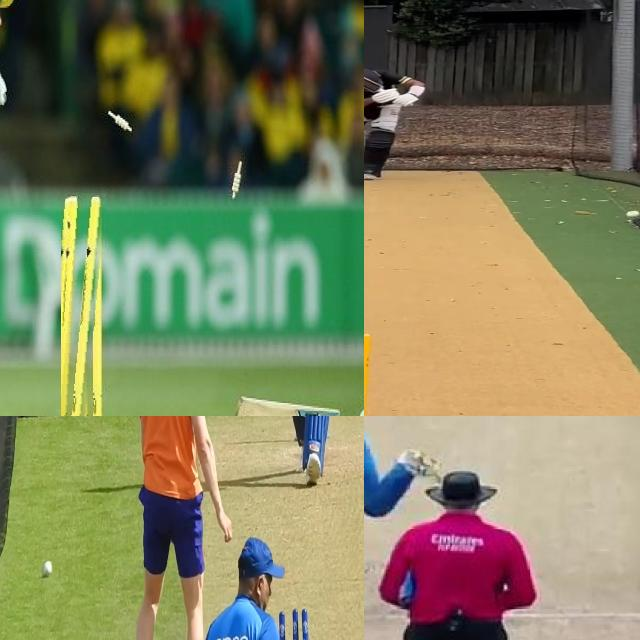Cricket ball: (42, 558, 55, 580)
Stumps: (61, 192, 106, 416)
